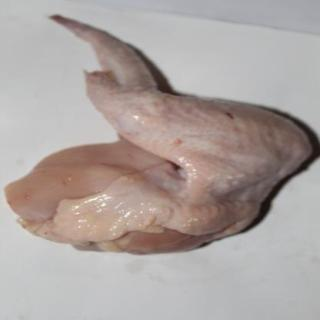Ayam: (8, 17, 314, 257)
